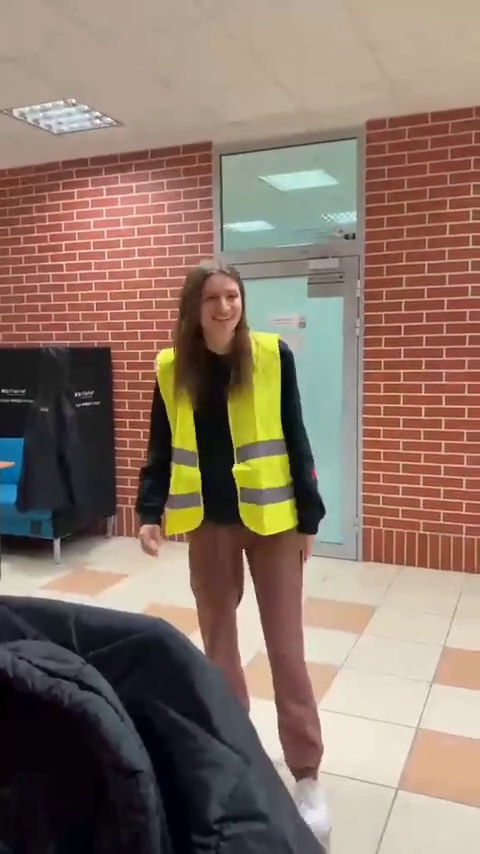vest: (145, 253, 329, 842)
